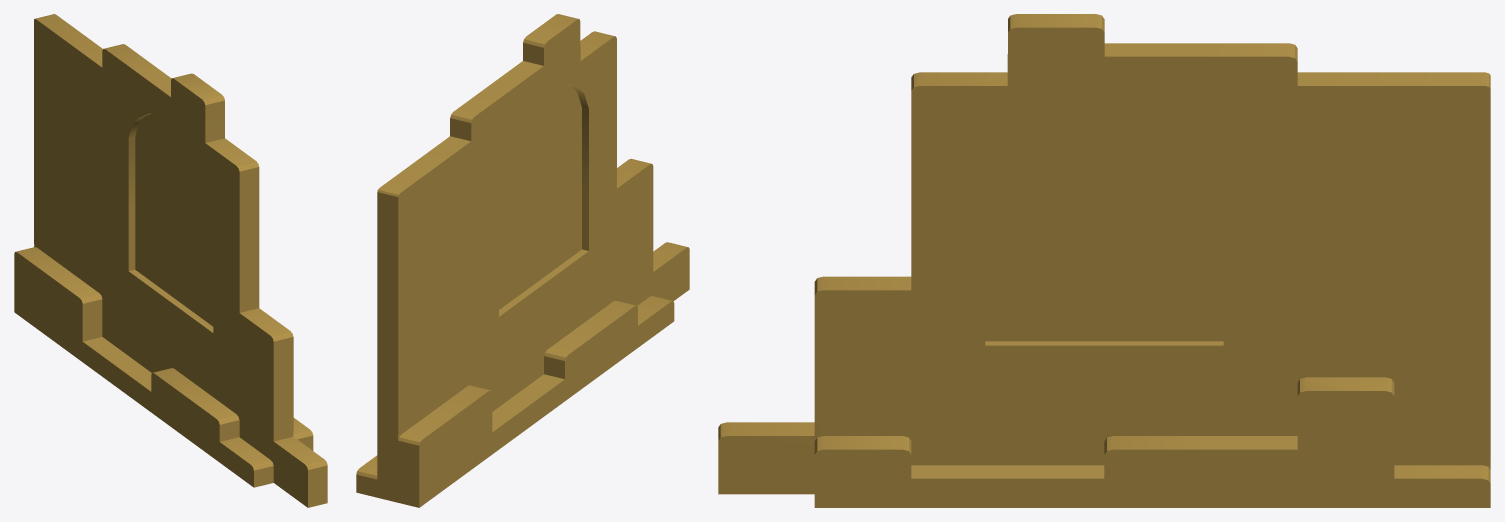
Rendered from sciana_1.obj.
The picture shows the model from 3 angles, left to right: view 1: azimuth 30°, elevation 25°; view 2: azimuth 150°, elevation 25°; view 3: azimuth 270°, elevation 25°; orthographic projection. The views are drawn at different scales.
Parts seen in each view (by area): view 1: Cube.007; view 2: Cube.007; view 3: Cube.007.
Boxes of the visible parts, bbox=[...] form: Cube.007: bbox=[14, 14, 327, 507]; Cube.007: bbox=[356, 14, 689, 507]; Cube.007: bbox=[718, 14, 1490, 507].
Bounding box in the file's own units: 0.75 × 4 × 6.
